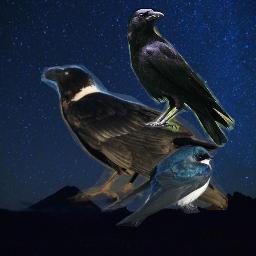Crow: (41, 62, 228, 210), (127, 8, 235, 147)
Swallow: (101, 145, 214, 227)
